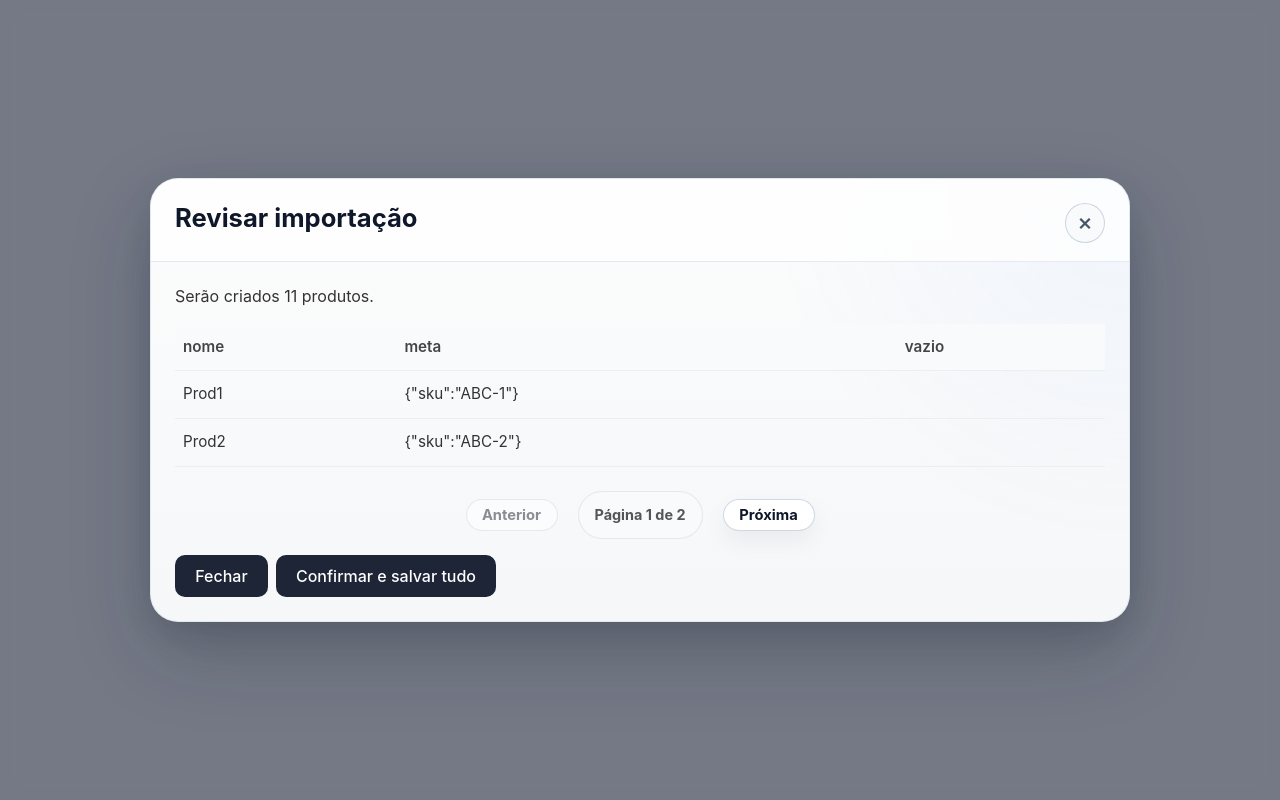
Test: renders array review payloads with object cells and paginates review data
Expected: the text "{\"sku\":\"ABC-1\"}" is shown, [396, 371, 897, 419]
Expected: the text "Serão criados 11 produtos." is shown, [175, 286, 374, 306]
Click the button "Próxima". click: (768, 515)
box: [722, 500, 814, 531]
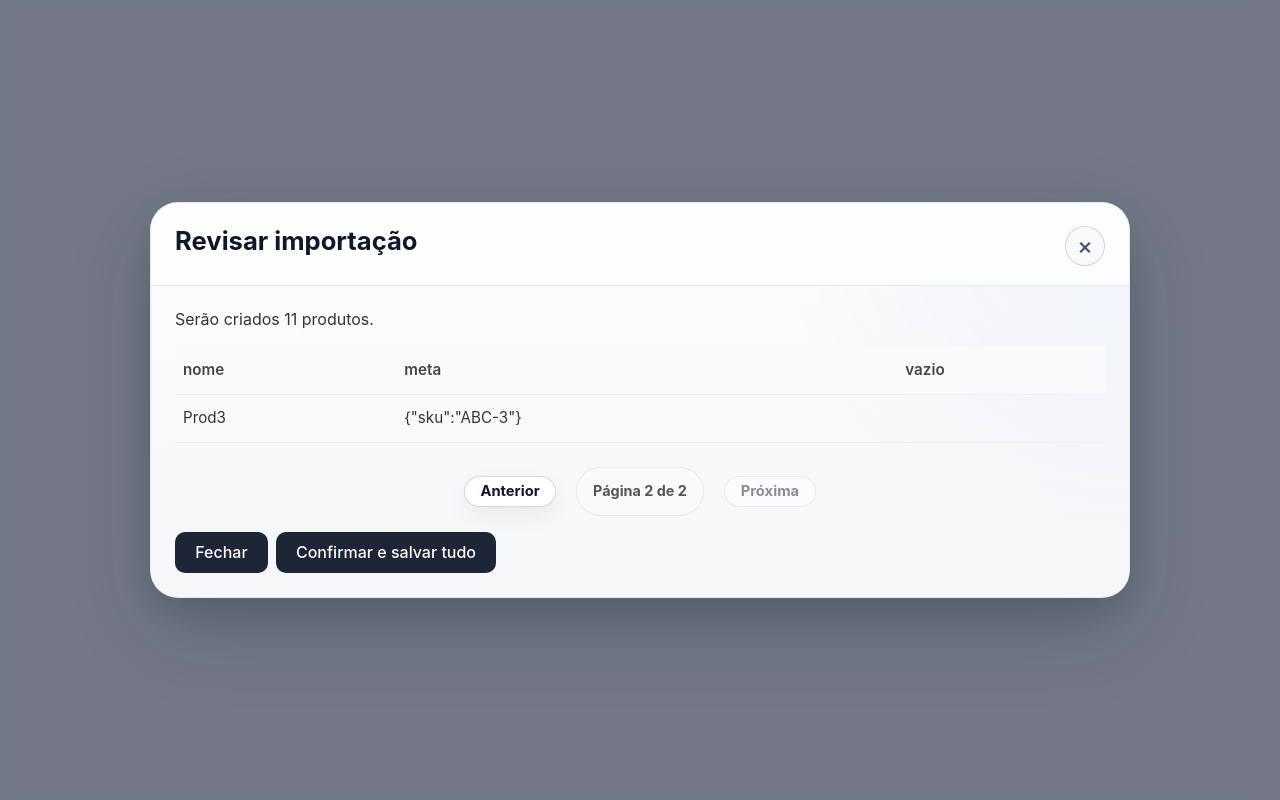
Now the text "{\"sku\":\"ABC-3\"}" is shown, box [396, 395, 897, 442]
